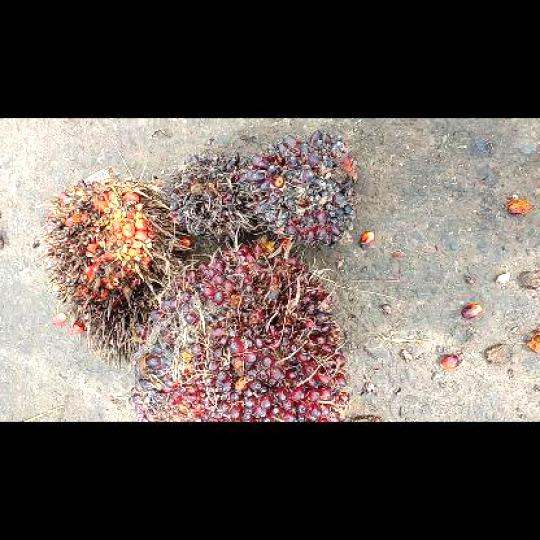masak: (122, 237, 356, 420)
terlalu masak: (38, 165, 193, 367)
